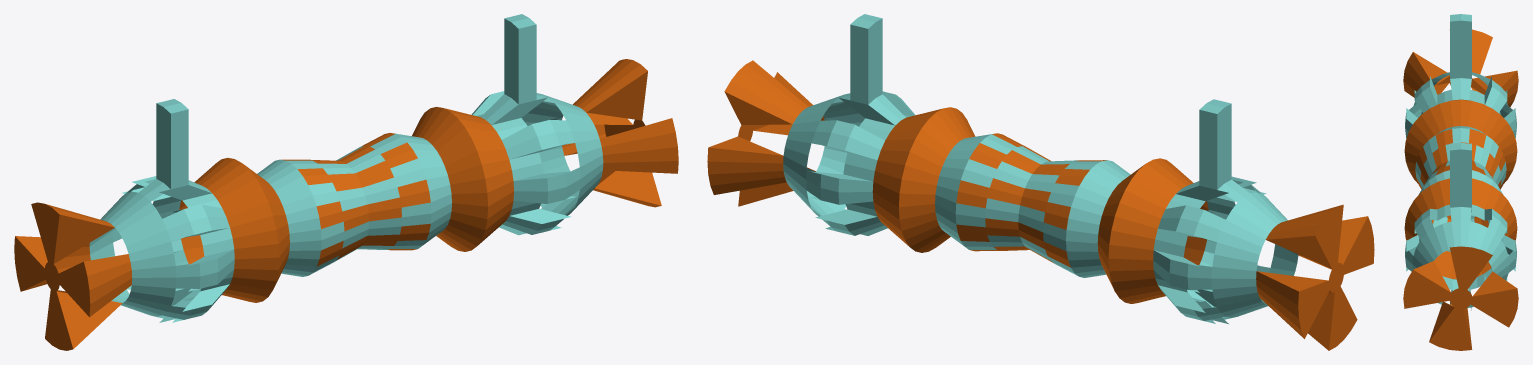
The model's file is Paddle23.fbx.
3 views of the same model, side by side, from view 1: azimuth 30°, elevation 25°; view 2: azimuth 150°, elevation 25°; view 3: azimuth 270°, elevation 25° (orthographic). The views are drawn at different scales.
Parts seen in each view (by area): view 1: Cylinder; view 2: Cylinder; view 3: Cylinder.
Part boxes in pixels (<box>): Cylinder: <box>14,14,678,350</box>; Cylinder: <box>707,14,1374,350</box>; Cylinder: <box>1403,14,1518,350</box>.
Bounding box in the file's own units: 1216 × 417 × 272.
